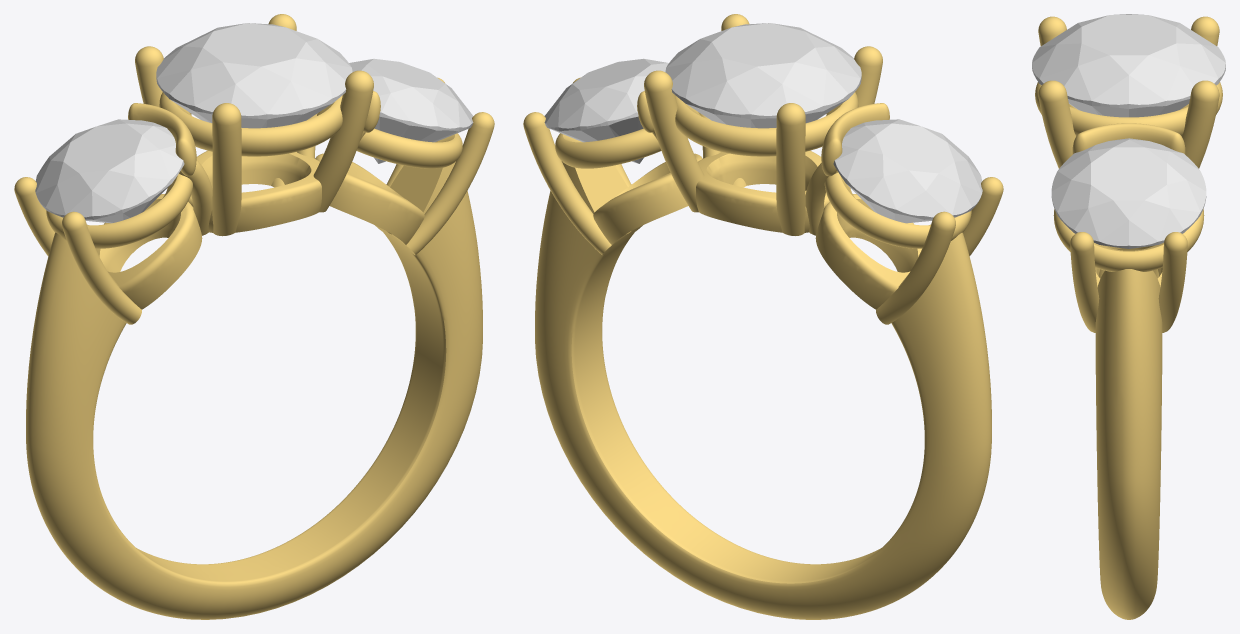
File: NateBygprongs.glb
3 renders of one model, left to right at view 1: azimuth 30°, elevation 25°; view 2: azimuth 150°, elevation 25°; view 3: azimuth 270°, elevation 25°, orthographic.
Visible parts, largest first — view 1: v2 YG for 3d model, Nate dia for 3d model.002, Nate dia for 3d model.001, Nate dia for 3d model; view 2: v2 YG for 3d model, Nate dia for 3d model.002, Nate dia for 3d model.001, Nate dia for 3d model; view 3: v2 YG for 3d model, Nate dia for 3d model.002, Nate dia for 3d model.
Boxes of the visible parts, box(x1,y1,x2,y2) form: v2 YG for 3d model: box(14, 14, 494, 619); Nate dia for 3d model.002: box(156, 23, 352, 128); Nate dia for 3d model.001: box(35, 119, 184, 223); Nate dia for 3d model: box(349, 58, 473, 163); v2 YG for 3d model: box(523, 14, 1003, 619); Nate dia for 3d model.002: box(665, 23, 861, 128); Nate dia for 3d model.001: box(833, 119, 982, 223); Nate dia for 3d model: box(544, 58, 668, 163); v2 YG for 3d model: box(1035, 16, 1222, 619); Nate dia for 3d model.002: box(1032, 14, 1225, 117); Nate dia for 3d model: box(1051, 138, 1206, 248).
Size of the model in its own units: 21.52 by 25.81 by 8.1.
